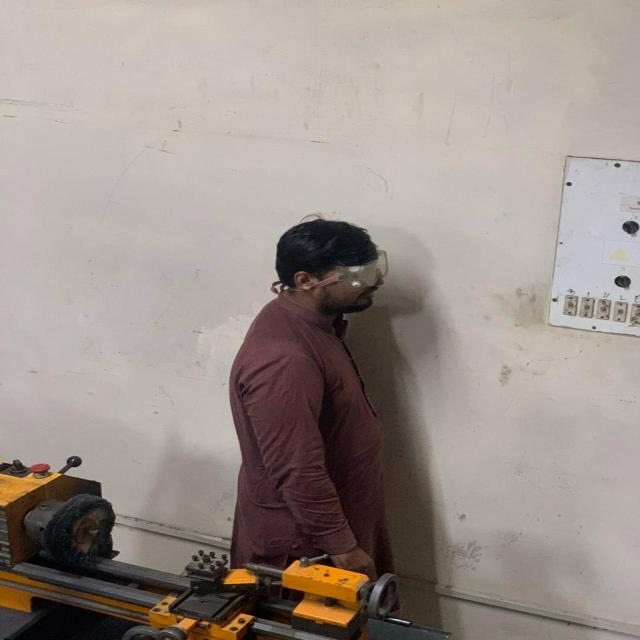googles: (339, 252, 392, 290)
